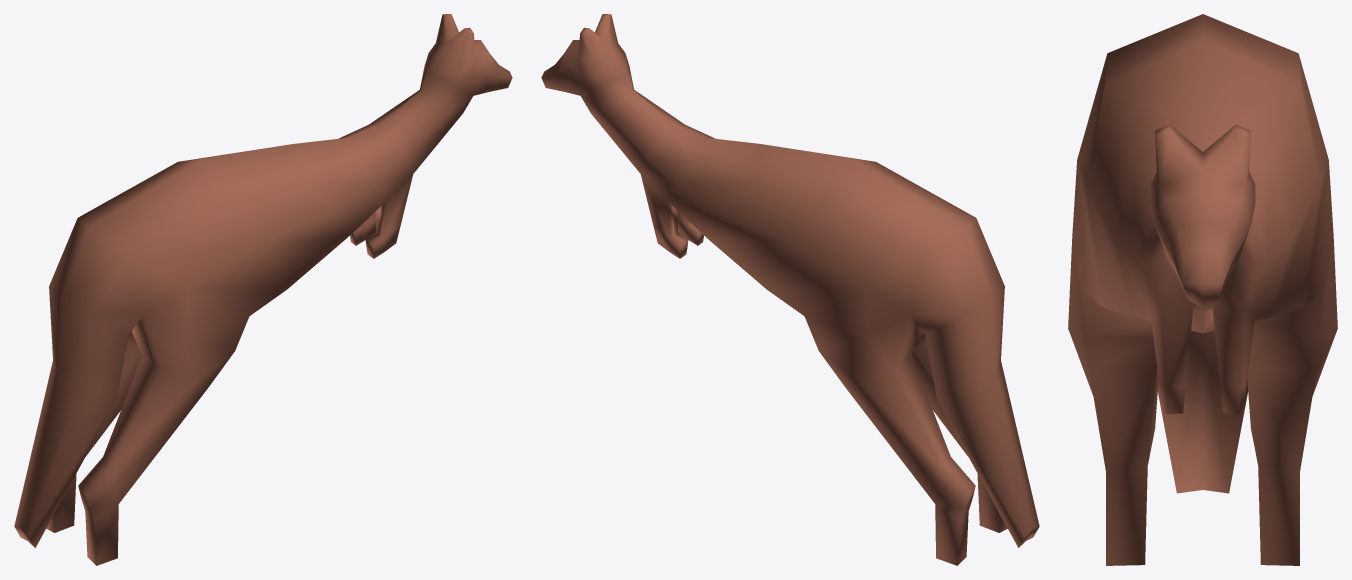
File: Cangaroo.fbx
3 views of the same model, side by side, from view 1: azimuth 30°, elevation 25°; view 2: azimuth 150°, elevation 25°; view 3: azimuth 270°, elevation 25° (orthographic). The views are drawn at different scales.
Parts seen in each view (by area): view 1: Cube.000; view 2: Cube.000; view 3: Cube.000.
Boxes of the visible parts, box(x1,y1,x2,y2) form: Cube.000: box(14, 14, 512, 565); Cube.000: box(541, 14, 1039, 565); Cube.000: box(1068, 14, 1337, 565).
Bounding box in the file's own units: 2802 × 2363 × 757.
